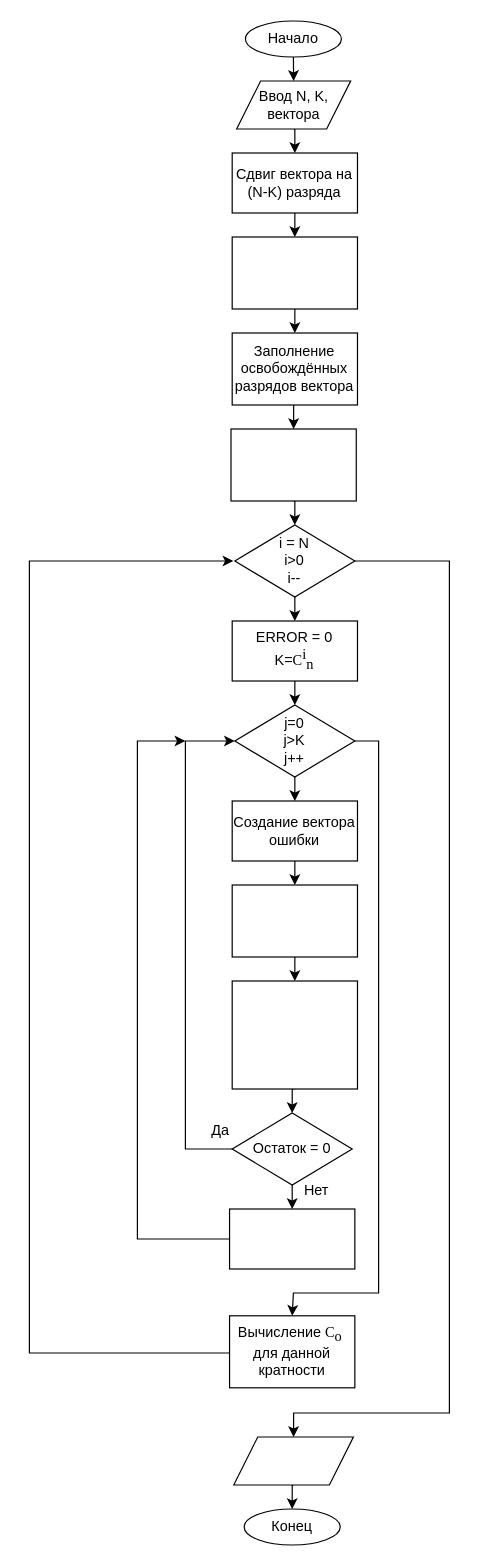
Image size: 480x1566. Some labels were removed from this diagram. Here are the shapes that lost their labels. From the top down, the centre of each, then its label:
point 294,272: Деление векторя на вектор, образующий полином
point 293,464: Создание пустого массива размером (N*1)
point 294,920: Сложение вектора ошибки и закадированного вектора V
point 294,1034: Вычисление остатка от деления вектора V на вектор, образующий полином
point 291,1238: ERROR += 1
point 293,1460: Вывод результатов
